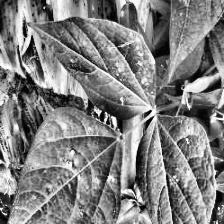Bean Rust: (8, 107, 123, 224), (33, 19, 161, 117), (133, 114, 212, 224), (164, 0, 224, 75)
